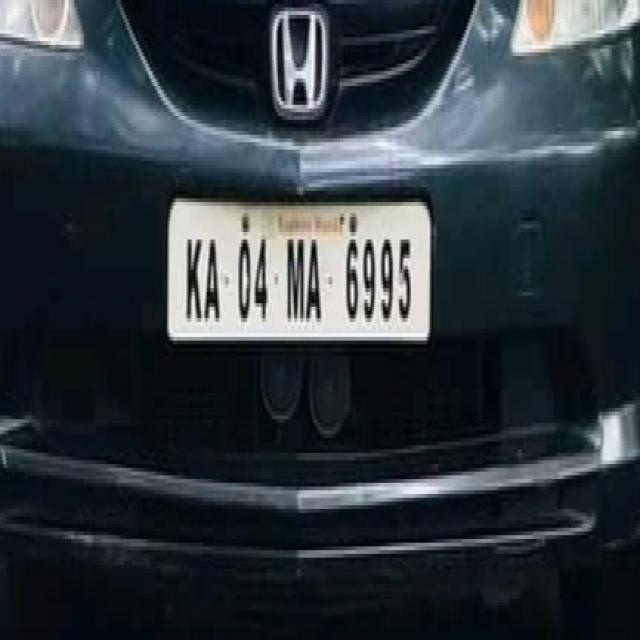0: (235, 223, 253, 325)
4: (253, 228, 272, 336)
5: (396, 231, 414, 326)
6: (341, 227, 361, 331)
9: (360, 225, 376, 325), (378, 230, 394, 318)
A: (305, 226, 324, 339), (203, 230, 222, 328)
K: (183, 228, 203, 321)
M: (282, 230, 306, 324)
